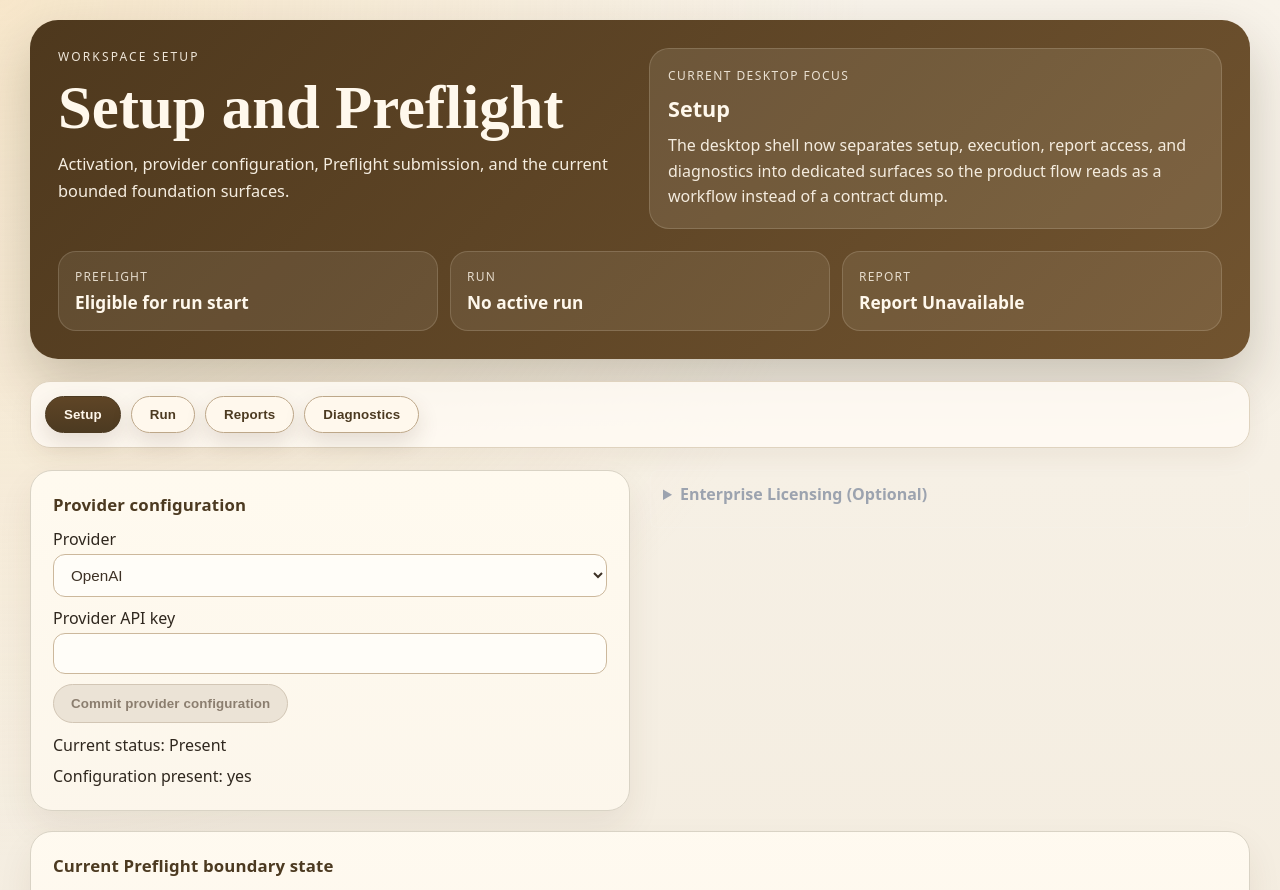
App Wave 4 Preflight UI › marks an existing Preflight result stale after a material provider change
Select "Google" in the dropdown labelled "Provider" at (330,575), box x1=53 y1=554 x2=607 y2=597
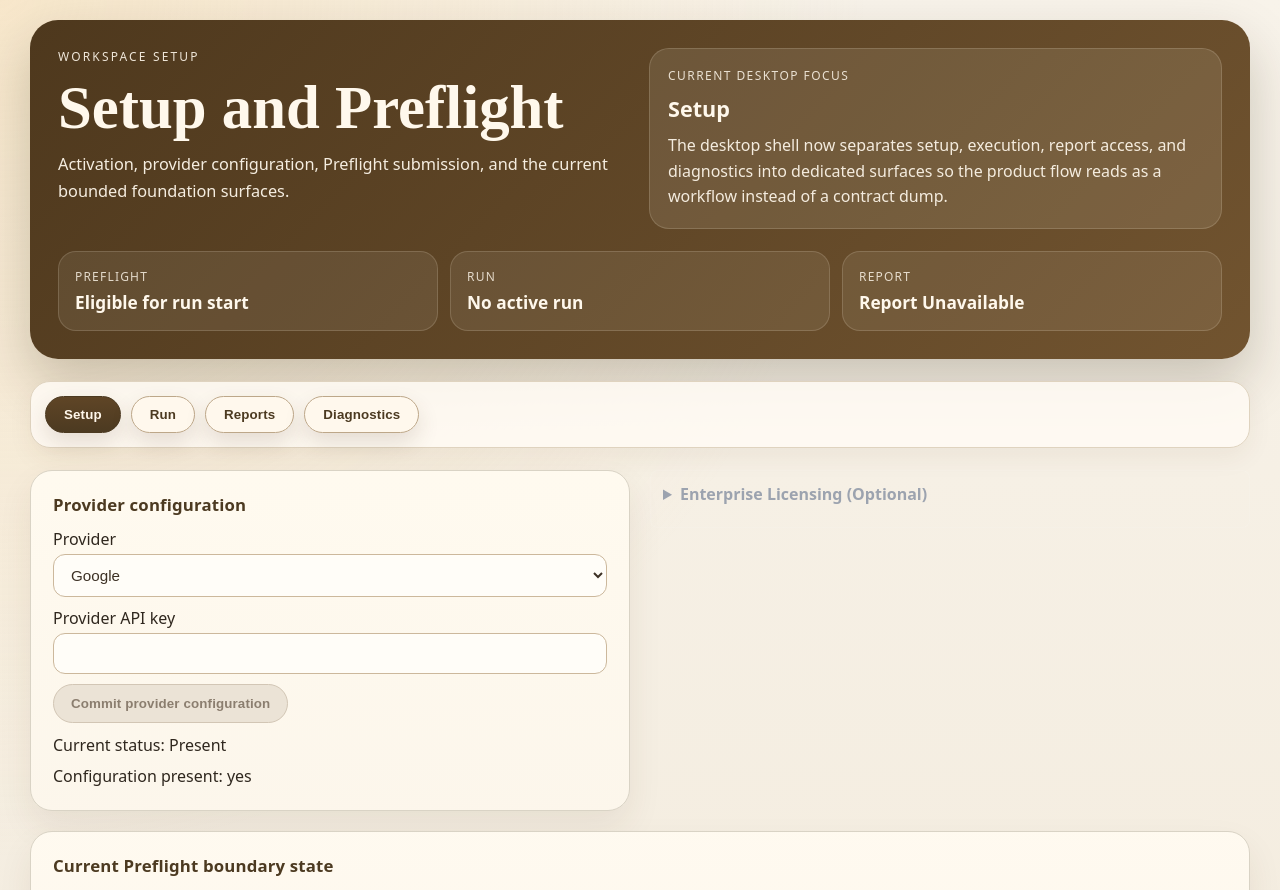
Type "google-secret-001" into the field labelled "Provider API key".
click(330, 653); type("google-secret-001")  # box x1=53 y1=633 x2=607 y2=674
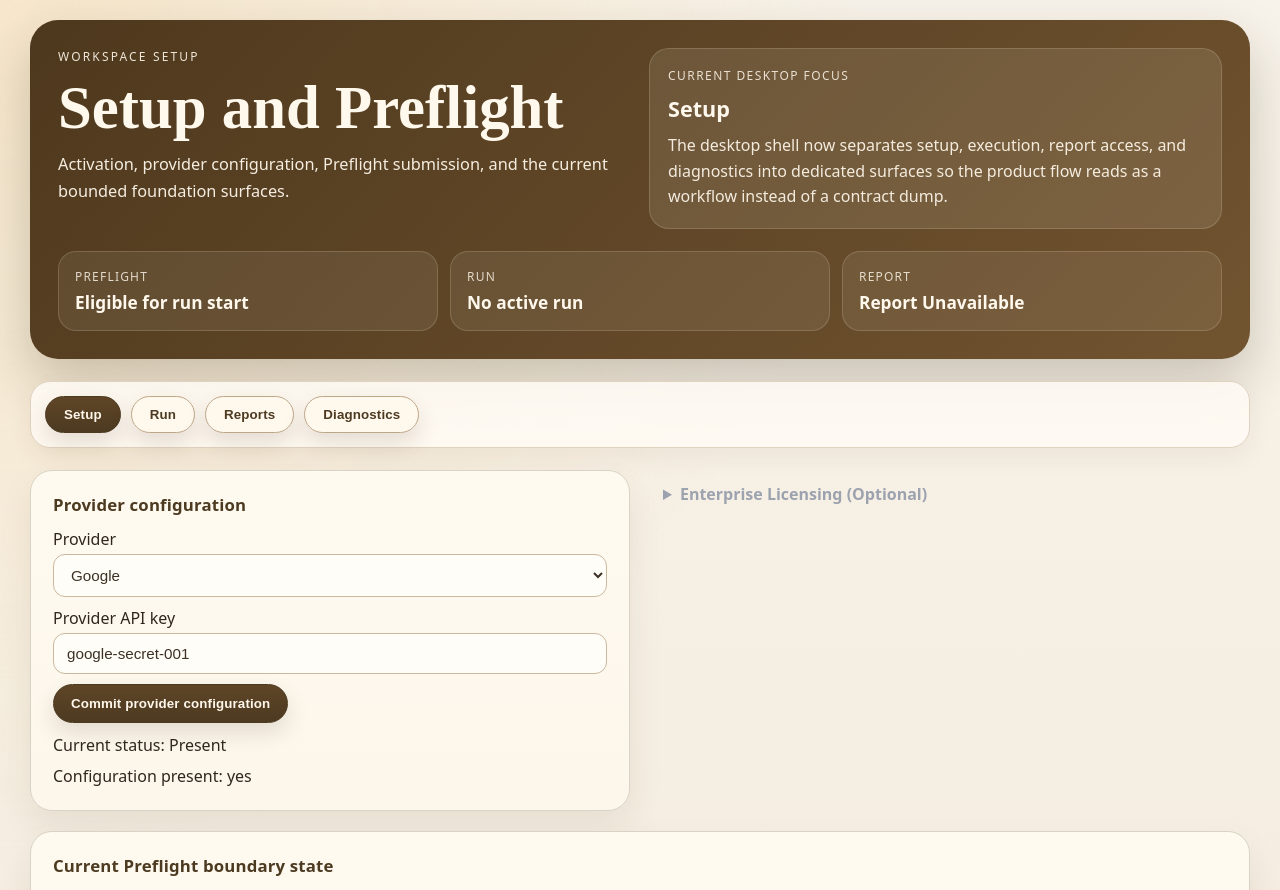
Click the button "Commit provider configuration".
click(171, 703)  # box x1=53 y1=684 x2=288 y2=723
(page scrolled)
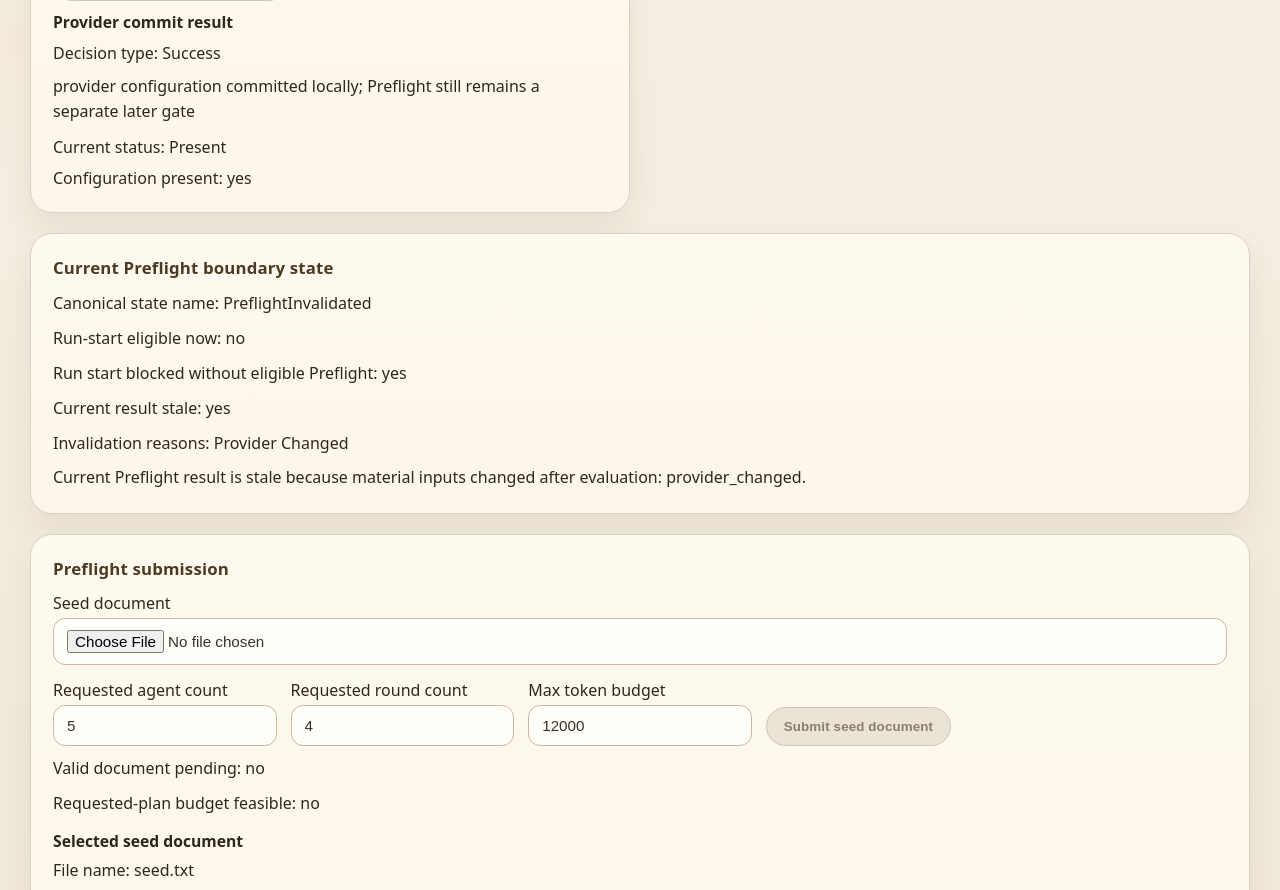
Check: the heading "Provider commit result" is shown, box x1=53 y1=11 x2=233 y2=33
Check: the text "Canonical state name: PreflightInvalidated" is shown, box x1=53 y1=292 x2=372 y2=314
Check: the text "Current result stale: yes" is shown, box x1=53 y1=397 x2=231 y2=419
